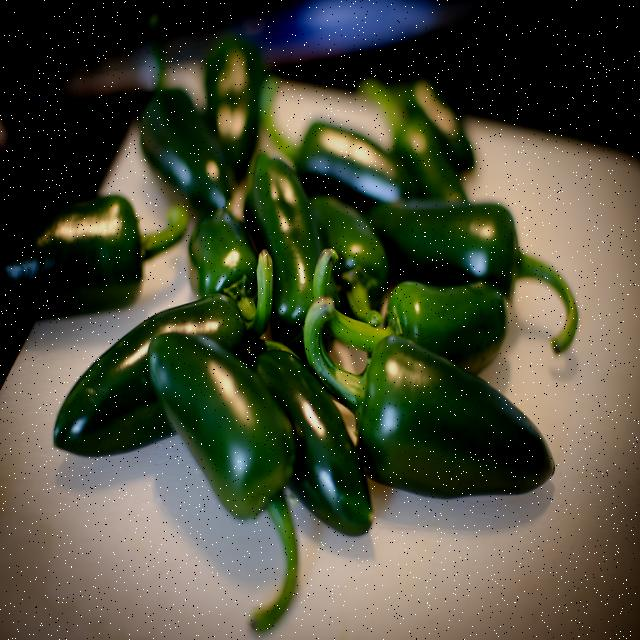Chili Pepper: (42, 161, 535, 517)
